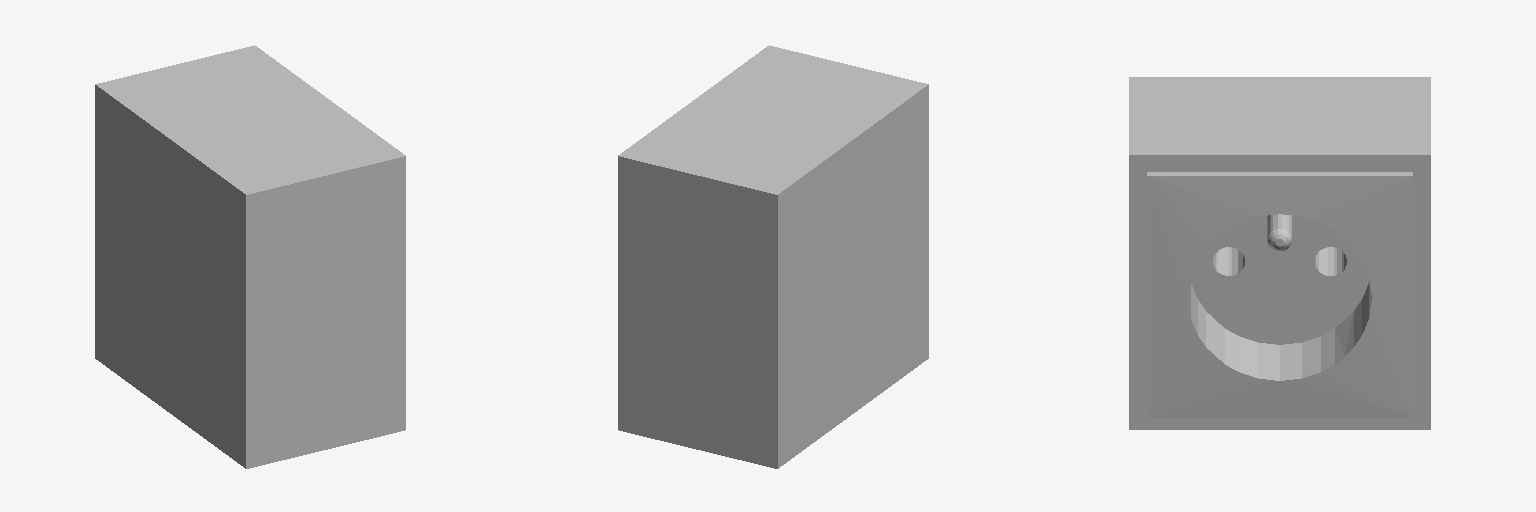
File: socket.obj
3 renders of one model, left to right at view 1: azimuth 30°, elevation 25°; view 2: azimuth 150°, elevation 25°; view 3: azimuth 270°, elevation 25°, orthographic.
Visible parts, largest first — view 1: Cube; view 2: Cube; view 3: Cube.
Boxes of the visible parts, x1=… form: Cube: x1=95, y1=45, x2=405, y2=468; Cube: x1=618, y1=45, x2=928, y2=468; Cube: x1=1129, y1=77, x2=1430, y2=429.
Bounding box in the file's own units: 1.94 × 2.97 × 2.97.